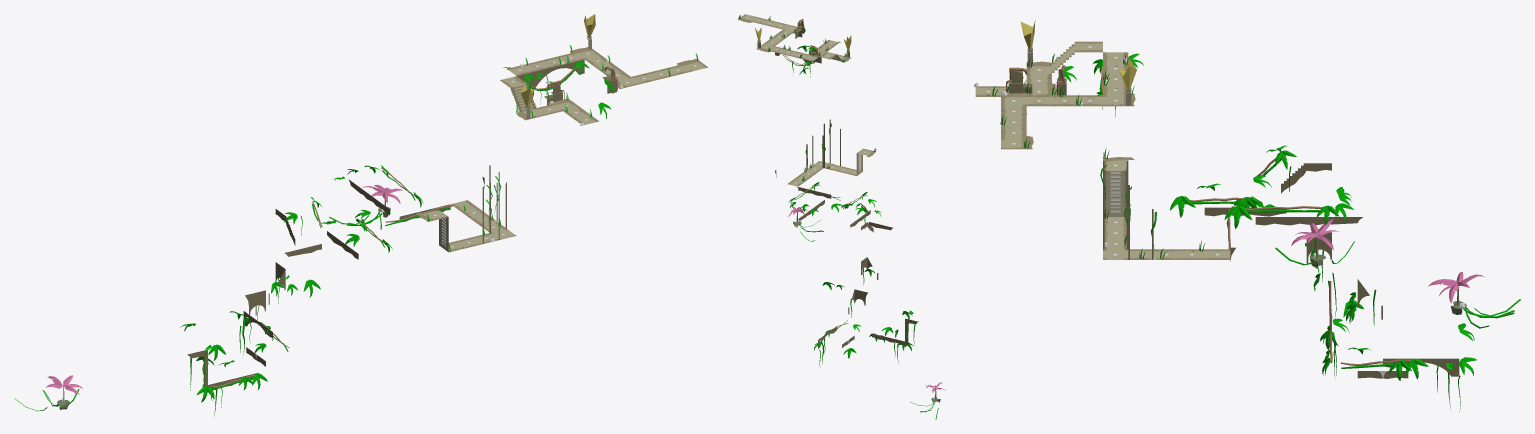
The picture shows the model from 3 angles, left to right: view 1: azimuth 30°, elevation 25°; view 2: azimuth 150°, elevation 25°; view 3: azimuth 270°, elevation 25°; orthographic projection. The views are drawn at different scales.
Parts seen in each view (by area): view 1: polySurface9230; view 2: polySurface9230; view 3: polySurface9230.
Part boxes in pixels (<box>): polySurface9230: <box>14,36,708,417</box>; polySurface9230: <box>737,14,945,419</box>; polySurface9230: <box>974,41,1520,411</box>.
Bounding box in the file's own units: 2914 × 2246 × 2148.
